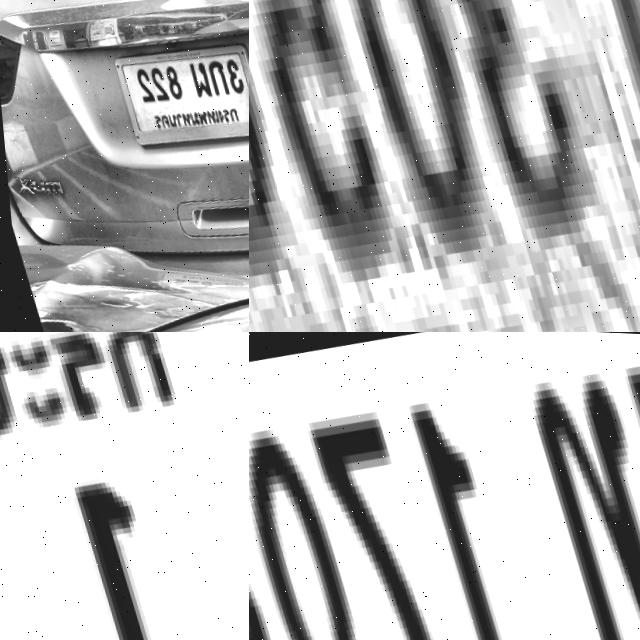license-plate: (249, 0, 640, 332), (249, 332, 640, 640), (0, 332, 249, 640), (98, 19, 249, 158)
